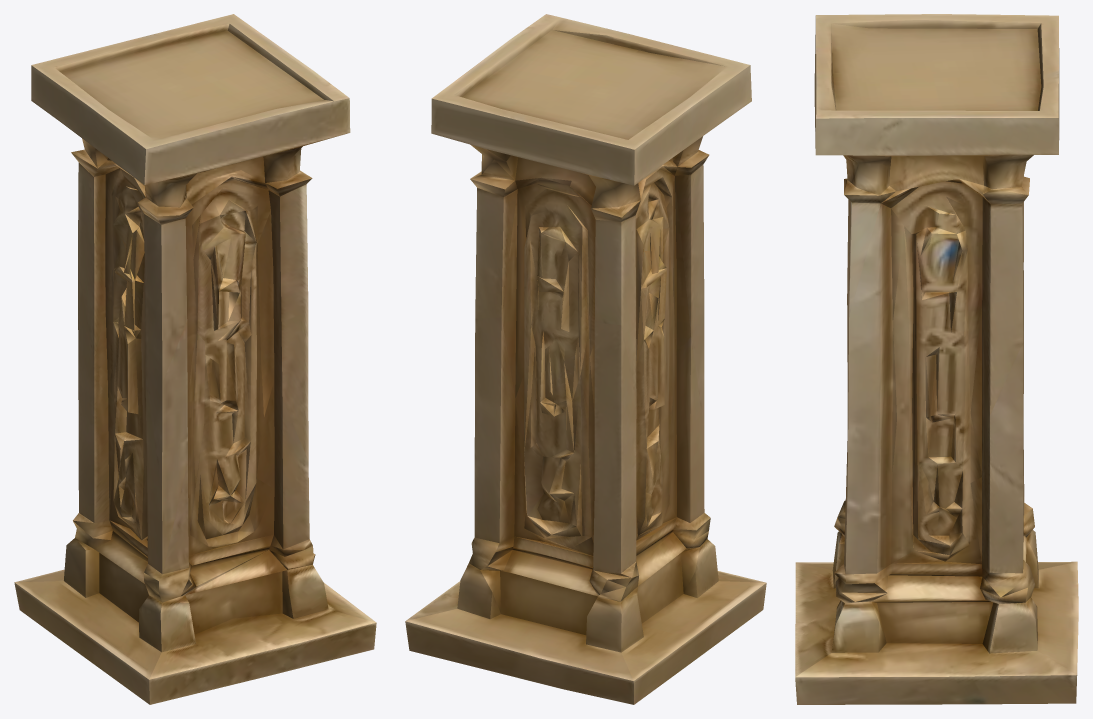
The model's file is m2SupportPillar.glb.
The picture shows the model from 3 angles, left to right: view 1: azimuth 30°, elevation 25°; view 2: azimuth 150°, elevation 25°; view 3: azimuth 270°, elevation 25°; orthographic projection. The views are drawn at different scales.
Parts seen in each view (by area): view 1: model; view 2: model; view 3: model.
Part boxes in pixels (x1=…): model: x1=14, y1=14, x2=376, y2=704; model: x1=405, y1=14, x2=766, y2=704; model: x1=795, y1=14, x2=1078, y2=704.
Size of the model in its own units: 0.821 by 1.89 by 0.8333.
Materials: 1 (1 with a texture image).
